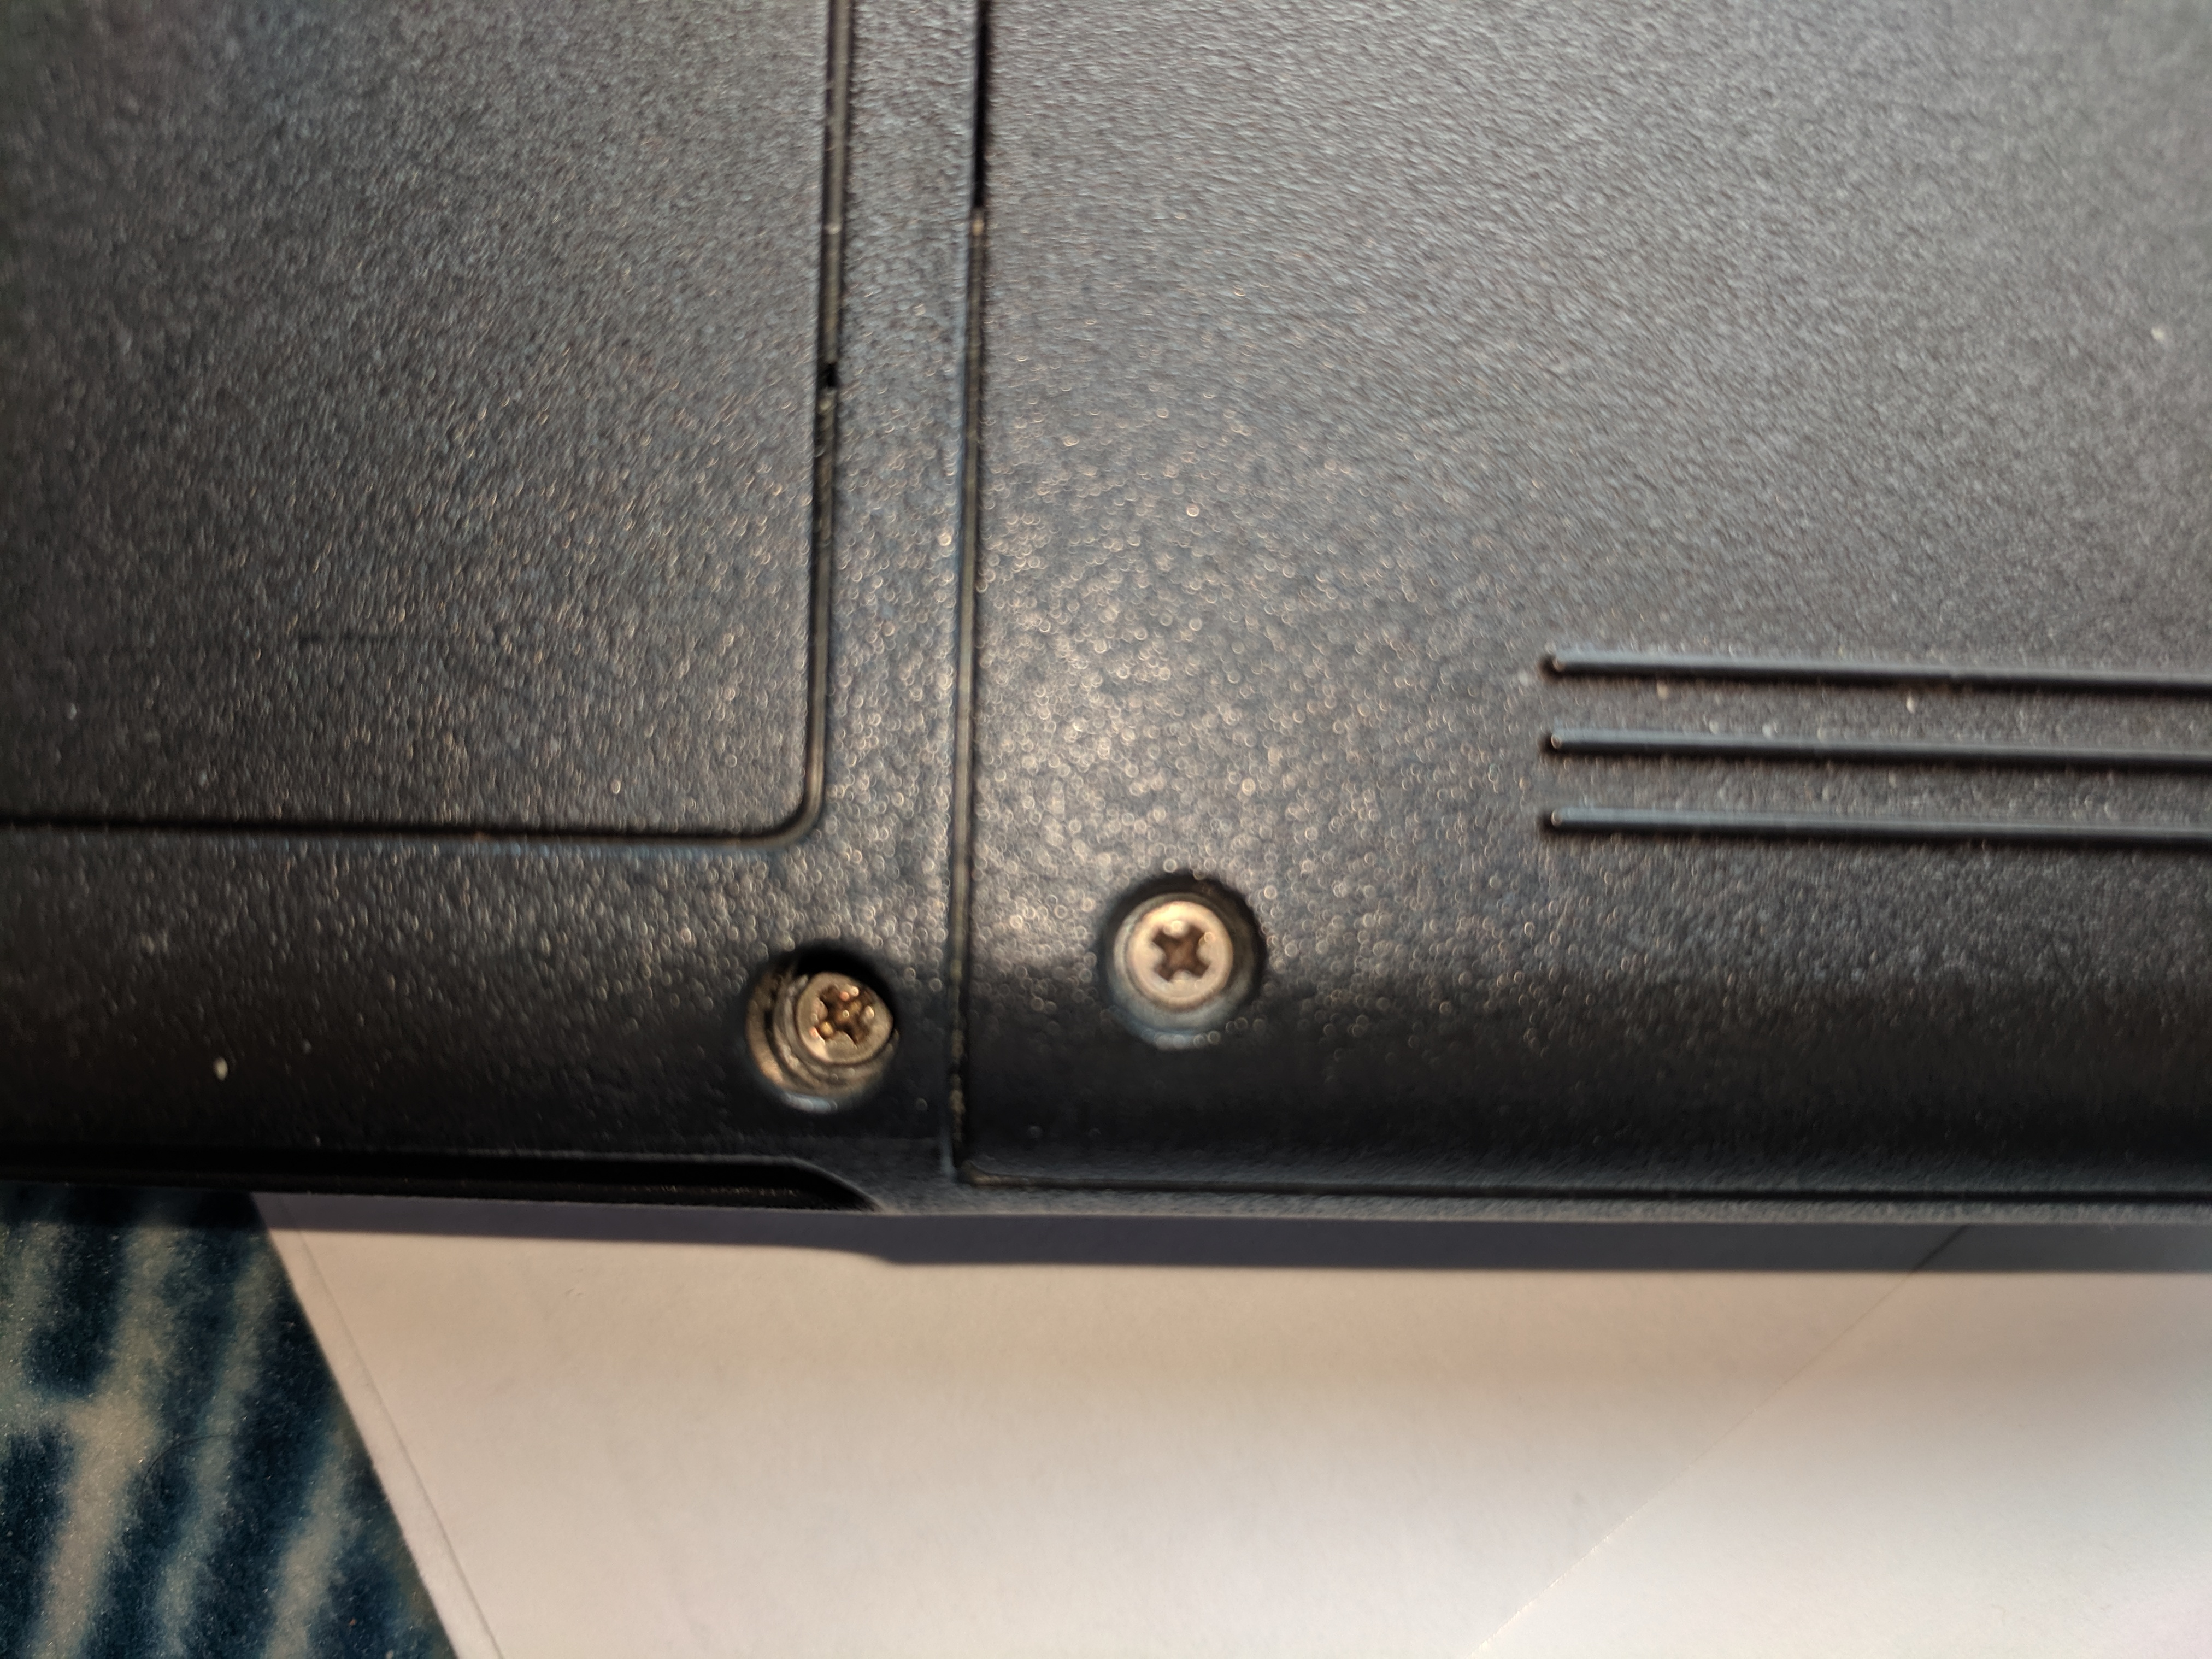cross_recessed_screw: (768, 951, 897, 1075), (1122, 887, 1242, 1009)
